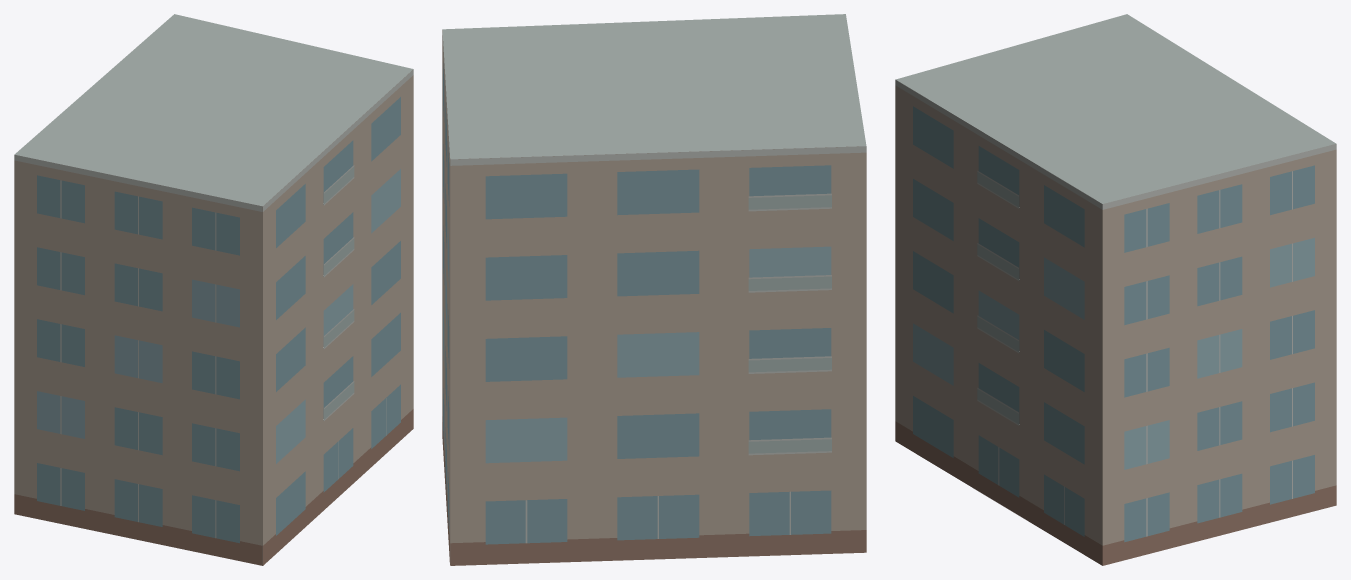
Rendered from survey-upis-32973482.glb.
3 renders of one model, left to right at view 1: azimuth 30°, elevation 25°; view 2: azimuth 150°, elevation 25°; view 3: azimuth 270°, elevation 25°, orthographic. The views are drawn at different scales.
Parts seen in each view (by area): view 1: survey-upis-32973482.tmp; view 2: survey-upis-32973482.tmp; view 3: survey-upis-32973482.tmp.
Boxes of the visible parts, <box> form: survey-upis-32973482.tmp: <box>14,14,413,565</box>; survey-upis-32973482.tmp: <box>442,14,866,565</box>; survey-upis-32973482.tmp: <box>895,14,1336,565</box>.
Size of the model in its own units: 17.2 by 15.25 by 16.86.
